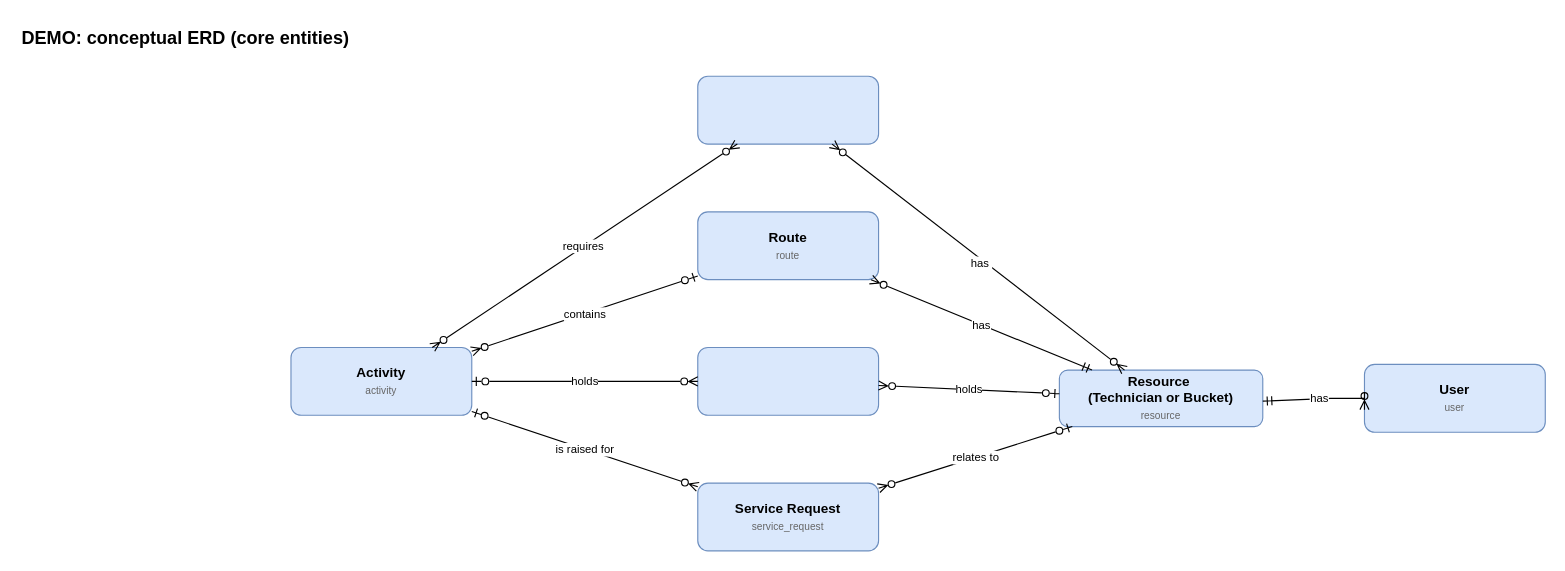
Some shapes in this 1565 by 571 pixel diagram are drawn without their labels. The box of each missing label's shape, as (x1, y1, x2, y2) in pixels:
Inventory inventory: (697, 346, 879, 415)
Work Skill work_skill: (697, 75, 879, 144)
